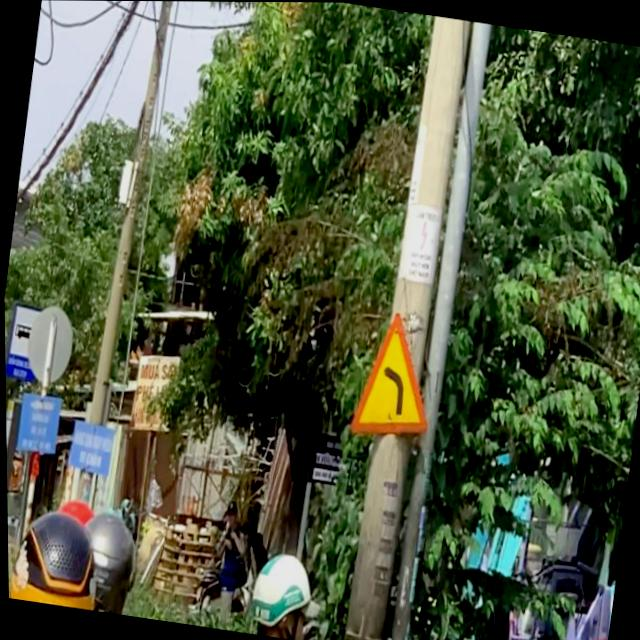cho ngoat nguy hiem vong ben trai: (341, 302, 445, 450)
